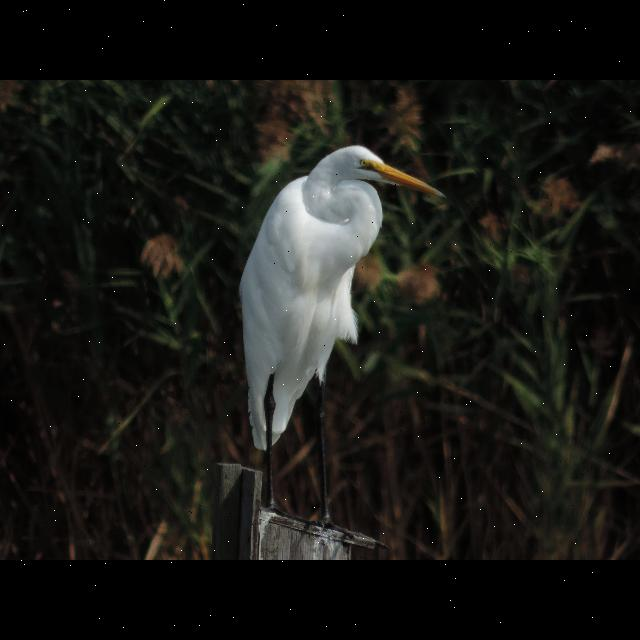egret: (227, 144, 448, 534)
